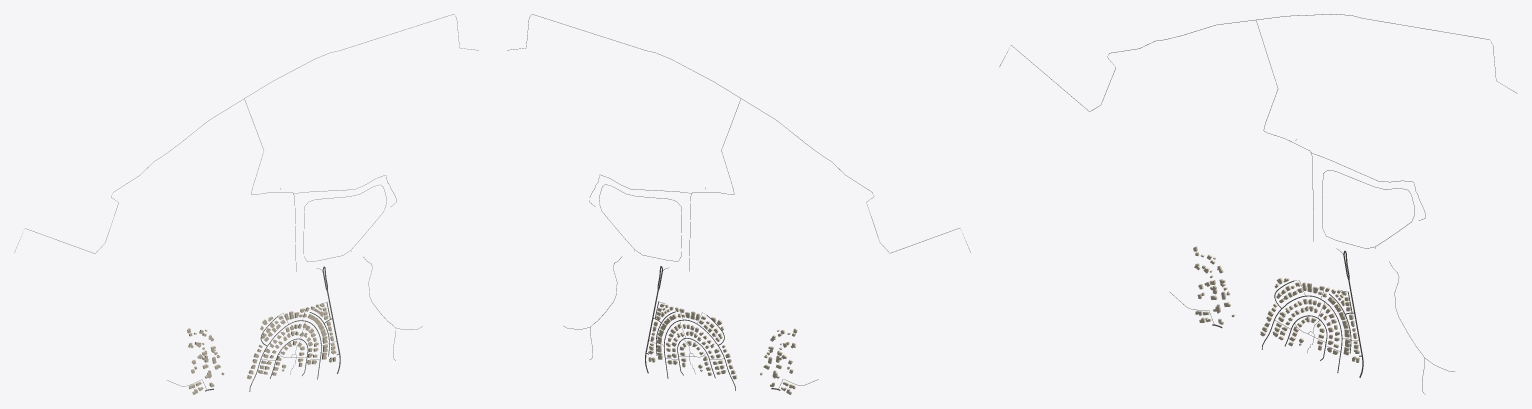
File: historic-palestine-08_31_3501_3252.glb
3 renders of one model, left to right at view 1: azimuth 30°, elevation 25°; view 2: azimuth 150°, elevation 25°; view 3: azimuth 330°, elevation 25°, orthographic. The views are drawn at different scales.
Parts seen in each view (by area): view 1: Road .001; view 2: Road .001; view 3: Road .001.
Part boxes in pixels (<box>): Road .001: <box>14,14,478,253</box>; Road .001: <box>507,14,970,253</box>; Road .001: <box>999,14,1517,111</box>.
Size of the model in its own units: 1991 by 1361 by 8.7.
